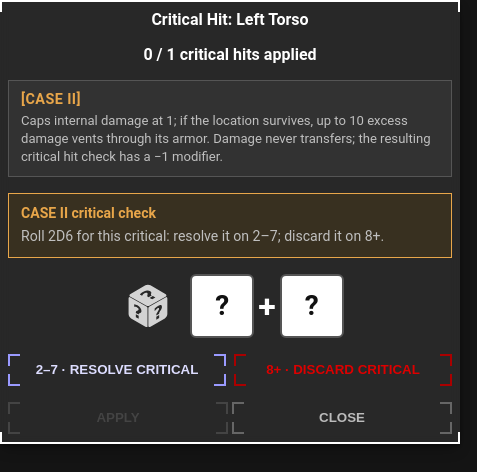
MekCriticalHitDialogComponent › offers physical CASE II outcomes before exposing critical slots
Click the button with class "bt-button" showing "2–7 · RESOLVE CRITICAL".
click(117, 370)  # box [8, 354, 226, 386]
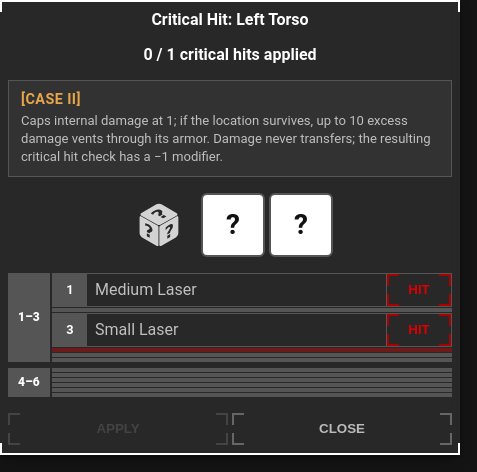
Expected: the element with class "critical-slot-options" is shown, [8, 273, 452, 397]
